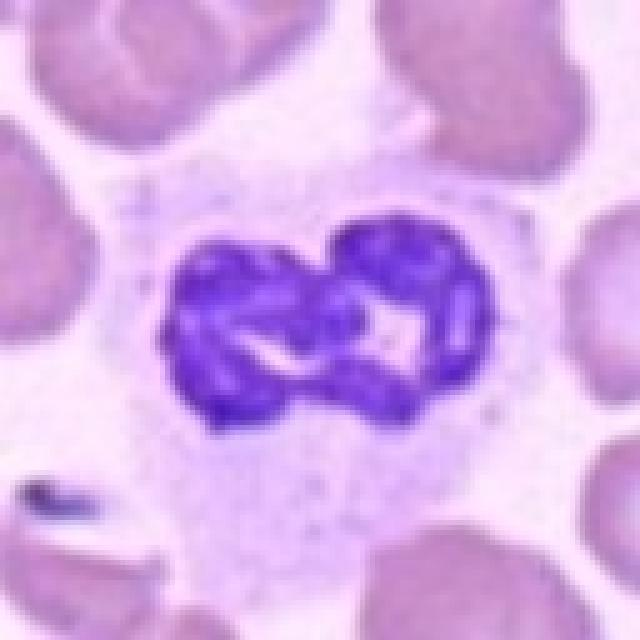neutro: (65, 136, 552, 549)
